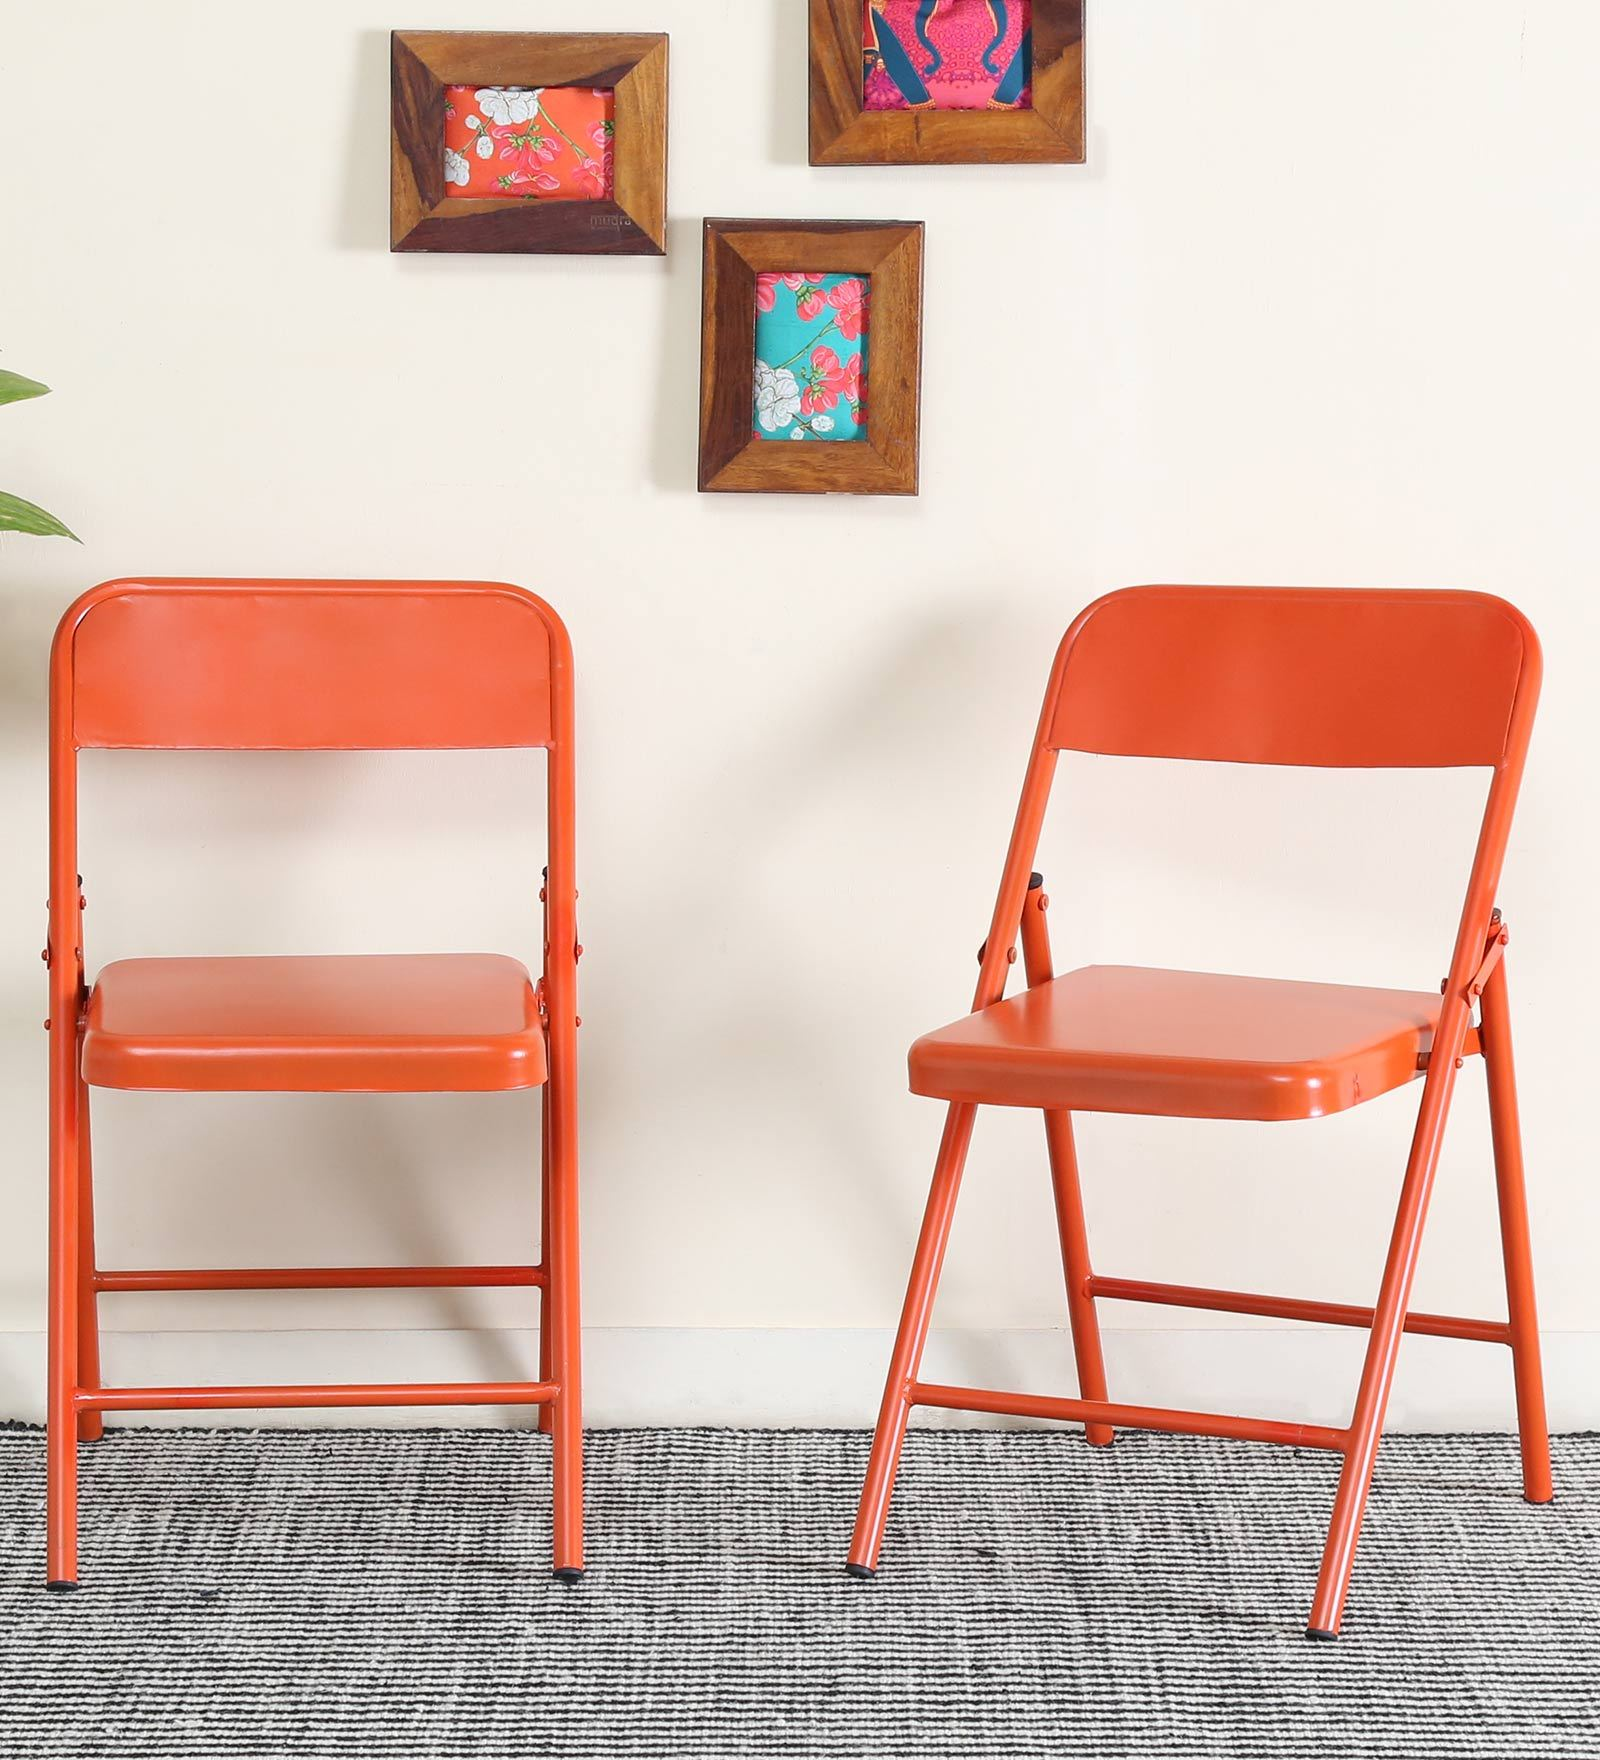Kell Folding Chair (Set of 2) in Orange Color by Bohemiana: (23, 547, 1571, 1689)
